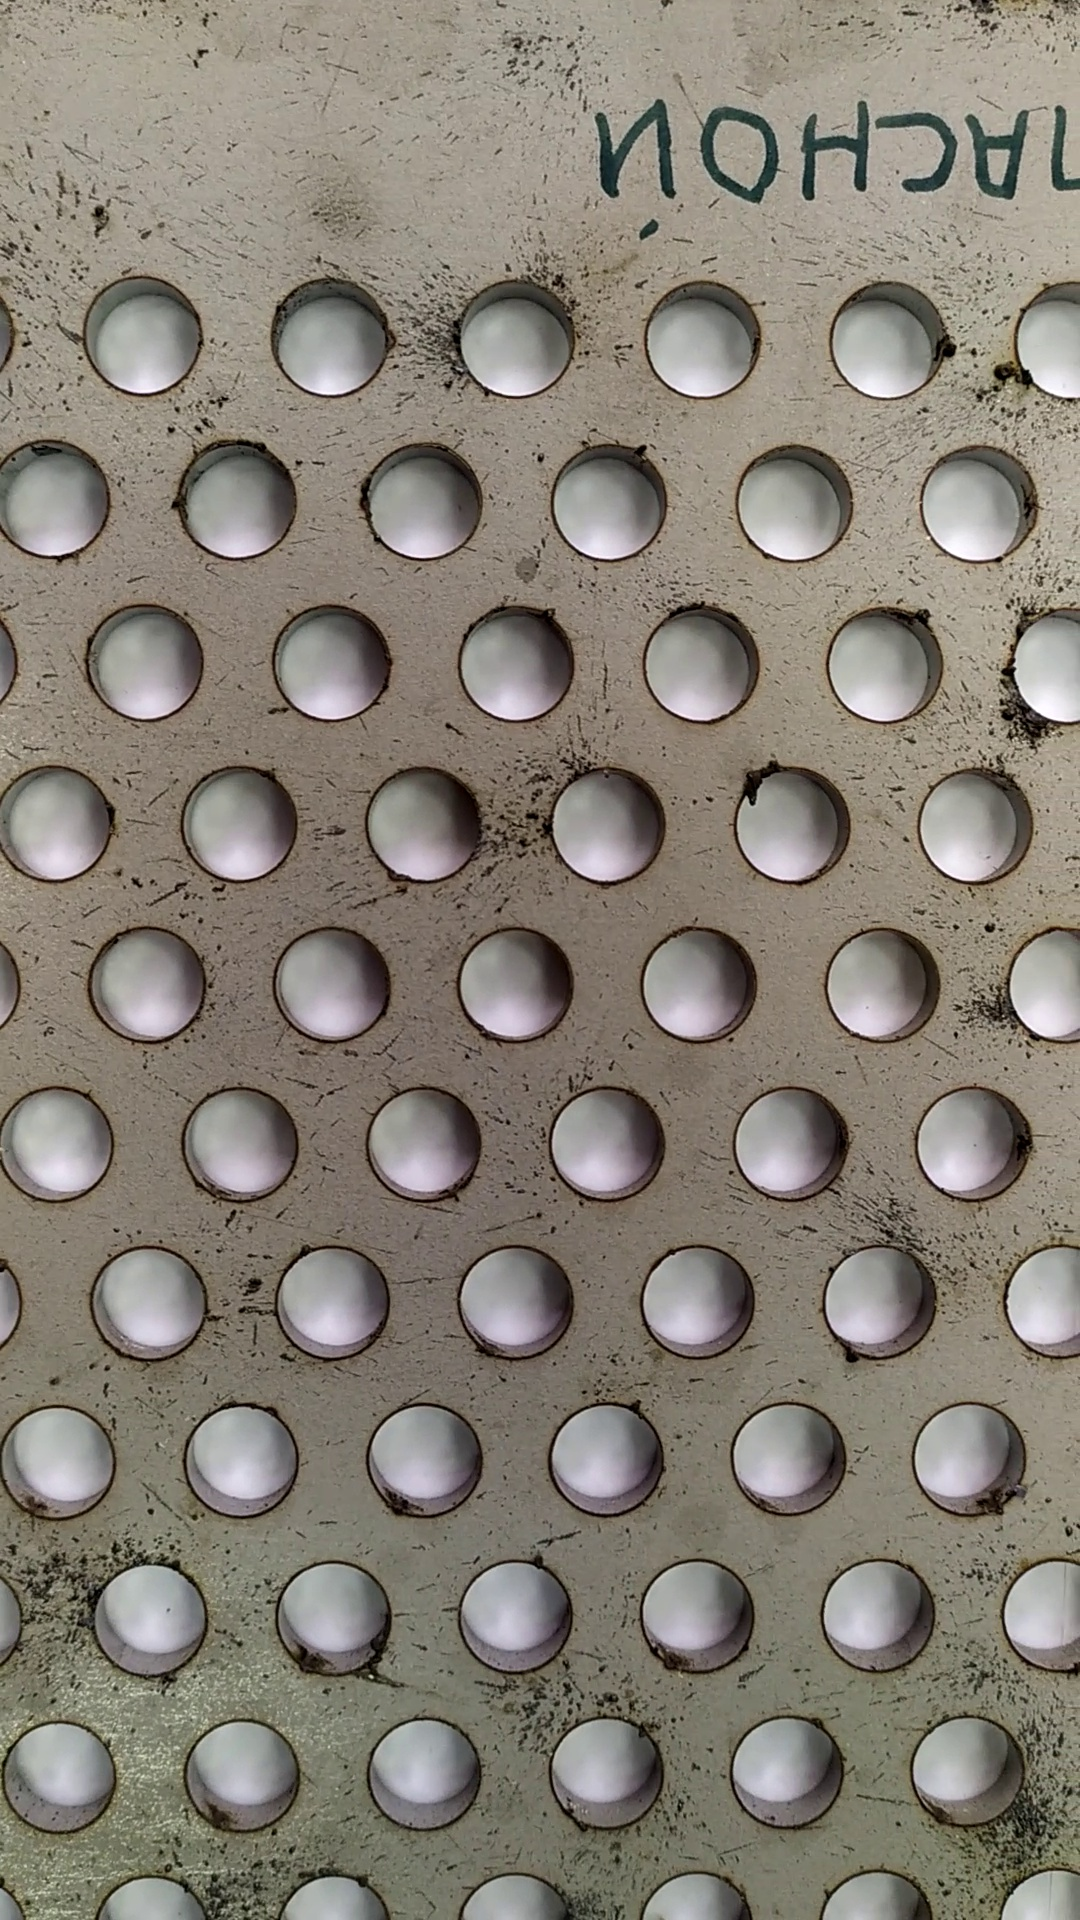Hole: (810, 258, 961, 407), (57, 268, 220, 400), (261, 264, 406, 411), (628, 587, 775, 731), (634, 270, 779, 413), (905, 1069, 1047, 1215), (713, 756, 861, 895), (161, 426, 313, 562), (713, 1389, 858, 1530), (444, 591, 585, 735), (440, 913, 585, 1052), (443, 1234, 591, 1371), (351, 1391, 500, 1526), (630, 916, 771, 1058), (265, 1232, 407, 1371), (71, 595, 216, 731), (723, 1071, 855, 1220), (440, 266, 585, 401), (712, 1698, 853, 1836), (810, 915, 955, 1048), (541, 758, 680, 895), (535, 1075, 676, 1211), (3, 1702, 138, 1844), (905, 434, 1047, 568), (347, 756, 487, 891), (261, 916, 402, 1050), (265, 1548, 394, 1693), (905, 754, 1040, 891), (357, 430, 489, 571), (535, 1391, 673, 1526), (80, 1236, 220, 1367), (171, 1073, 314, 1203), (76, 920, 218, 1050), (455, 1544, 583, 1687), (357, 1079, 491, 1213), (724, 434, 861, 564), (630, 1240, 767, 1370), (630, 1552, 761, 1689), (816, 599, 951, 731), (541, 1709, 676, 1840), (173, 1709, 310, 1838), (895, 1705, 1034, 1832), (1, 1077, 132, 1211), (357, 1709, 492, 1838), (265, 599, 396, 731), (84, 1552, 218, 1681), (545, 434, 679, 562), (818, 1236, 943, 1373), (3, 750, 124, 887), (177, 1395, 305, 1524), (175, 758, 301, 889), (1, 1393, 124, 1522), (906, 1400, 1036, 1519), (816, 1560, 951, 1675), (4, 429, 117, 564)
